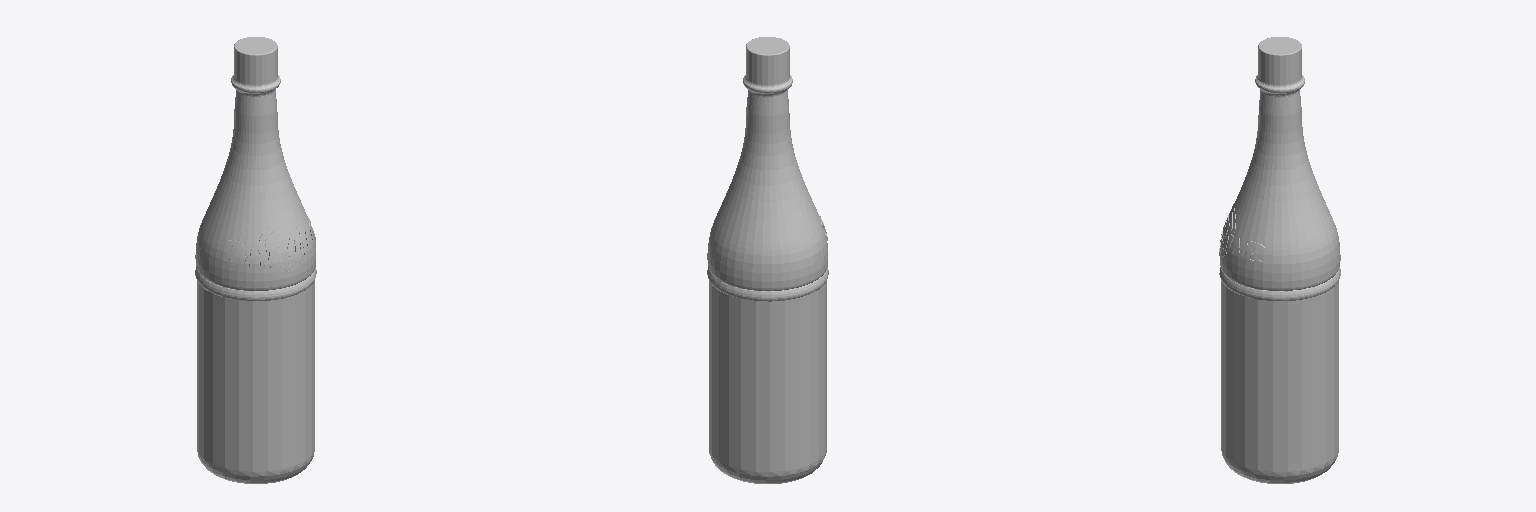
Rendered from bottle_threejs.obj.
The picture shows the model from 3 angles: view 1: azimuth 30°, elevation 25°; view 2: azimuth 150°, elevation 25°; view 3: azimuth 270°, elevation 25°; orthographic projection.
Visible parts, largest first — view 1: bottle_plastic_barline_v2; view 2: bottle_plastic_barline_v2; view 3: bottle_plastic_barline_v2.
Part boxes in pixels (x1,y1,x2,y2): bottle_plastic_barline_v2: (195,37,316,483); bottle_plastic_barline_v2: (707,37,828,483); bottle_plastic_barline_v2: (1219,37,1340,483).
Bounding box in the file's own units: 11.17 × 42.67 × 11.18.